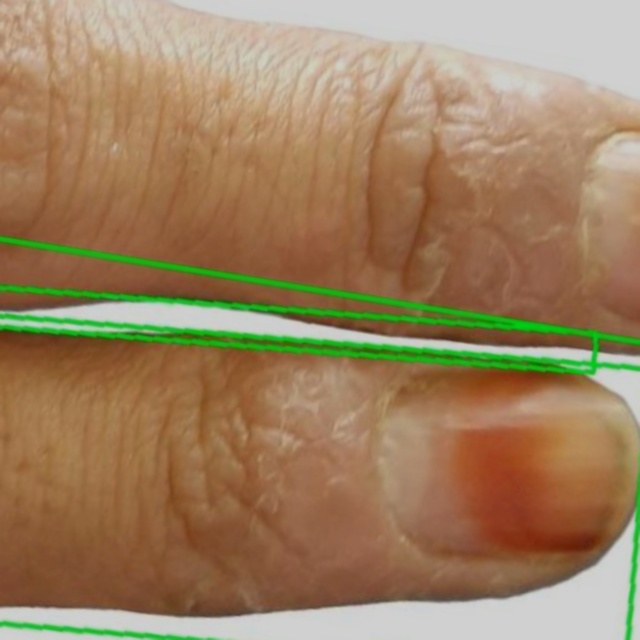Contact Dermatitis: (0, 238, 639, 639), (0, 316, 639, 639), (0, 287, 596, 374)
